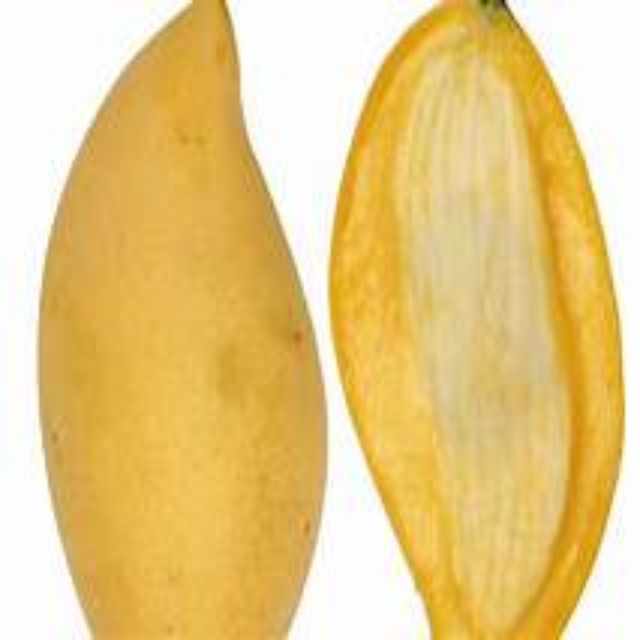mango: (325, 5, 622, 638), (40, 0, 313, 637)
